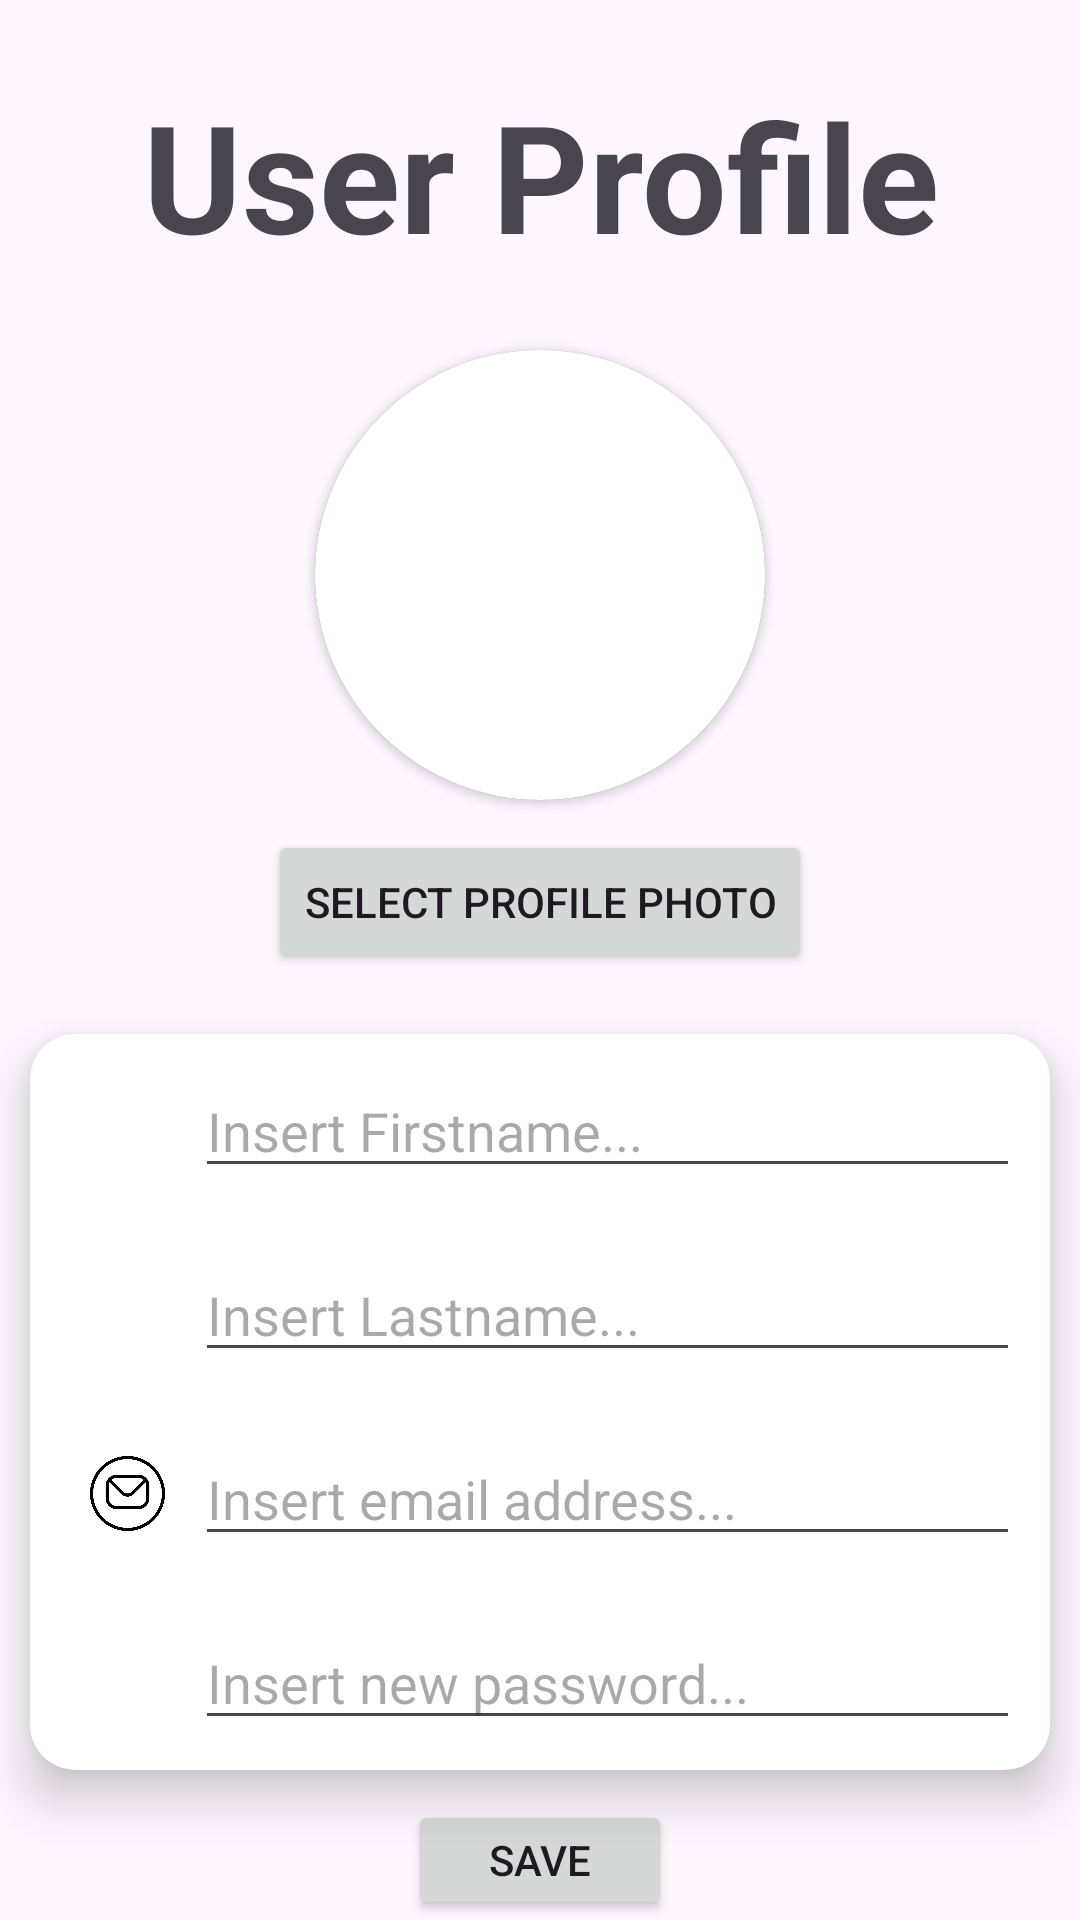

Icons on this 1080px x 1920px Android screen, each with its box as region(x1, y1, x2, y2):
circle envelope: region(90, 1456, 165, 1531)
